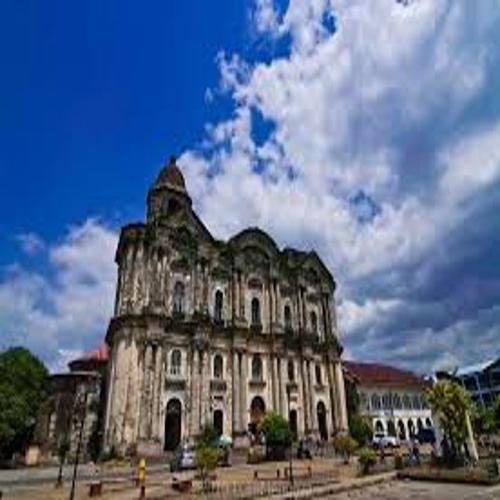Taal Basilica Church: (100, 147, 358, 462)
